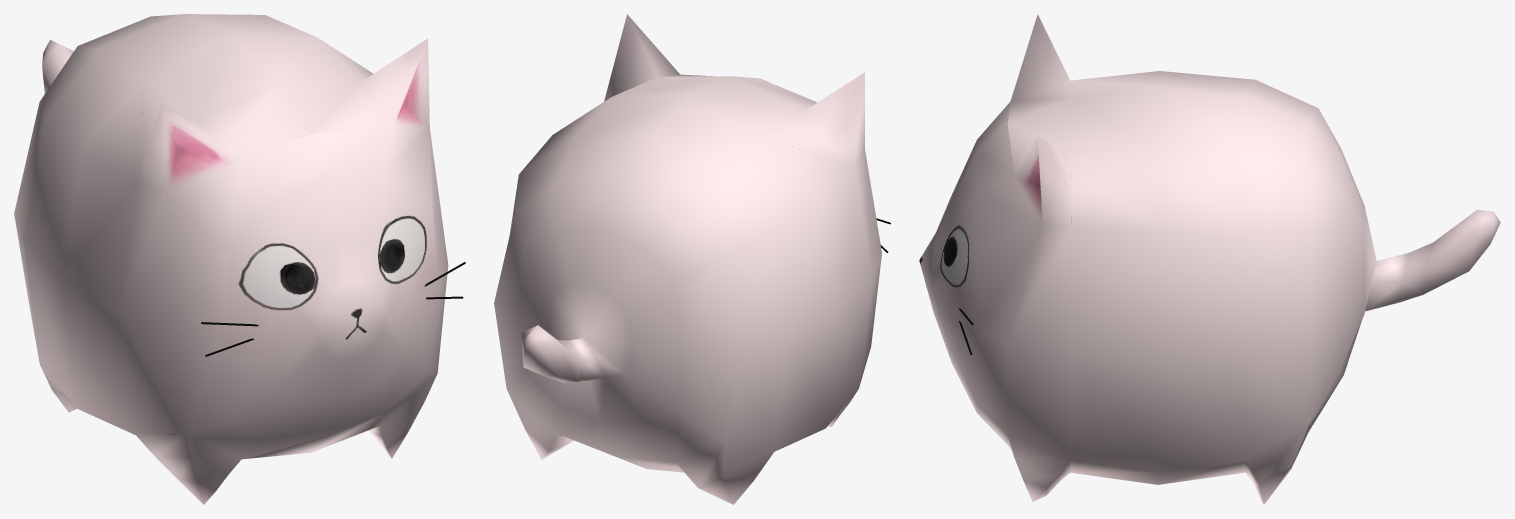
The model's file is Cat_test.fbx.
3 views of the same model, side by side, from view 1: azimuth 30°, elevation 25°; view 2: azimuth 150°, elevation 25°; view 3: azimuth 270°, elevation 25° (orthographic). The views are drawn at different scales.
Visible parts, largest first — view 1: Cat; view 2: Cat; view 3: Cat.
Part boxes in pixels (x1,y1,x2,y2): Cat: [14, 14, 465, 504]; Cat: [494, 14, 890, 504]; Cat: [919, 14, 1500, 504].
Size of the model in its own units: 197 by 227 by 312.
